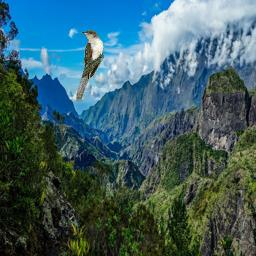Cuckoo: (76, 30, 104, 100)
